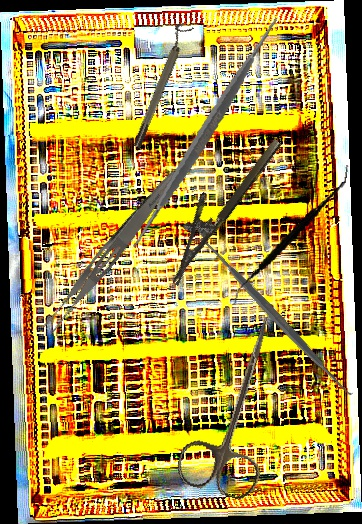Dressing Forceps: (39, 164, 182, 338)
Fixation Ring: (125, 20, 195, 150)
Iris Scissors: (172, 304, 303, 504)
Needle Holder: (148, 123, 284, 287)
Spatula Surgical: (87, 16, 322, 250), (190, 227, 359, 405), (232, 148, 349, 322)
